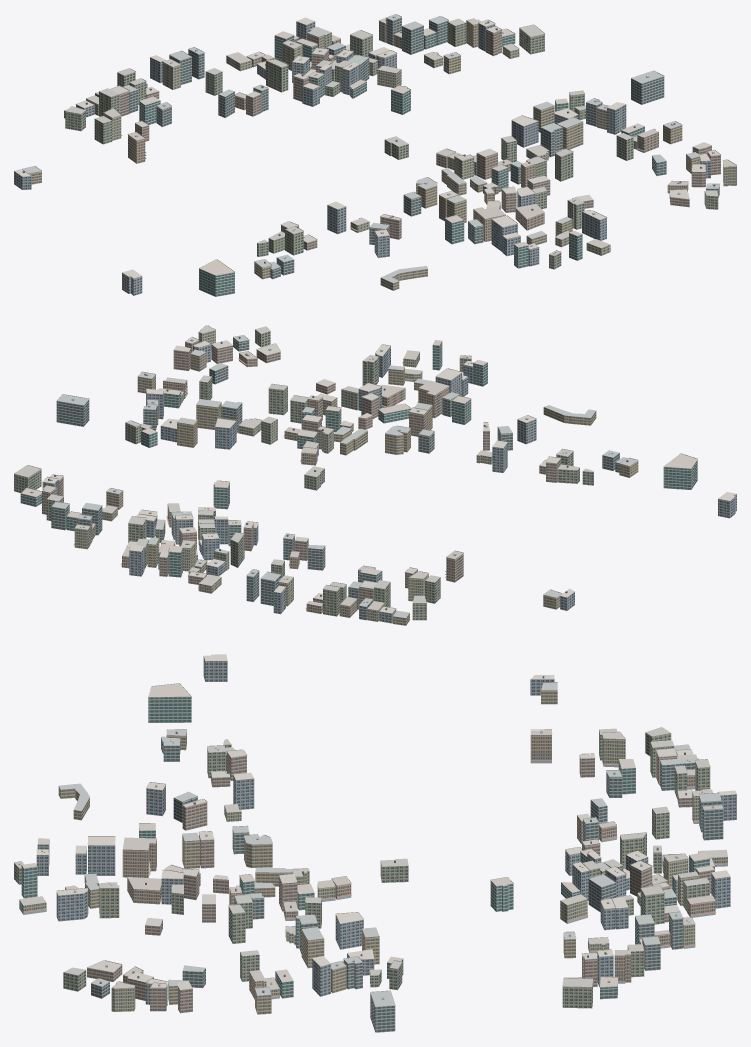
3 renders of one model, top to bottom at view 1: azimuth 30°, elevation 25°; view 2: azimuth 150°, elevation 25°; view 3: azimuth 270°, elevation 25°, orthographic. The views are drawn at different scales.
Parts seen in each view (by area): view 1: Station 7 surrounding real OSM building footprints; view 2: Station 7 surrounding real OSM building footprints; view 3: Station 7 surrounding real OSM building footprints.
Part boxes in pixels (box(x1,y1,x2,y2)): Station 7 surrounding real OSM building footprints: box(14, 14, 736, 296); Station 7 surrounding real OSM building footprints: box(14, 325, 736, 625); Station 7 surrounding real OSM building footprints: box(14, 654, 736, 1032).
Size of the model in its own units: 728 by 30.3 by 621.
Materials: 25 (8 with a texture image).
